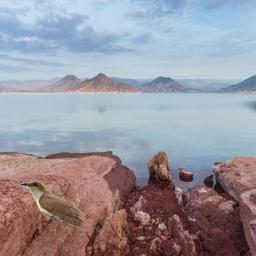Cuckoo: (18, 181, 84, 229)
